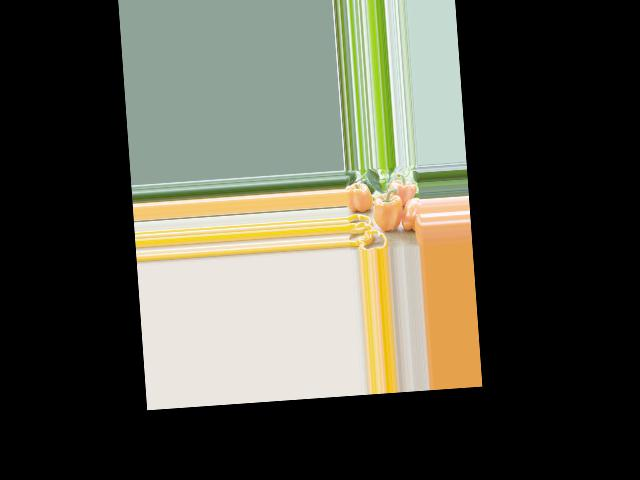bell_pepper: (400, 196, 422, 232)
